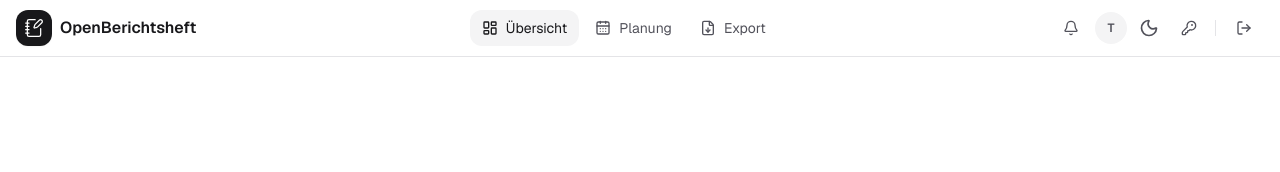
Test: Navbar › shows empty notification state
The width and height of the screenshot is (1280, 172).
Click the button with class "lucide-bell": (1071, 28) [1051, 10, 1091, 46]
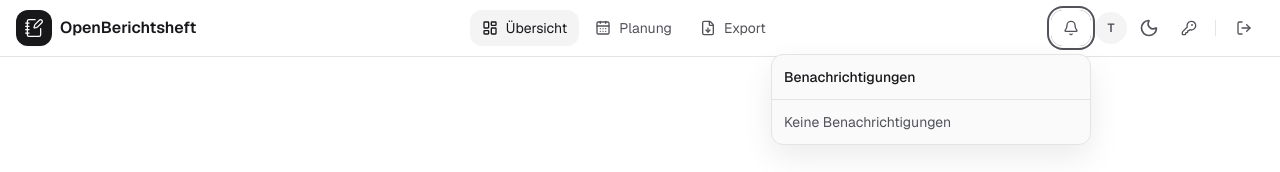
expect the text "Keine Benachrichtigungen" is shown: met, box [784, 113, 951, 131]
